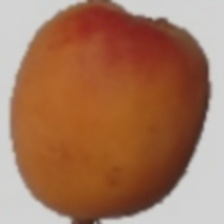apricot: (55, 17, 203, 194)
